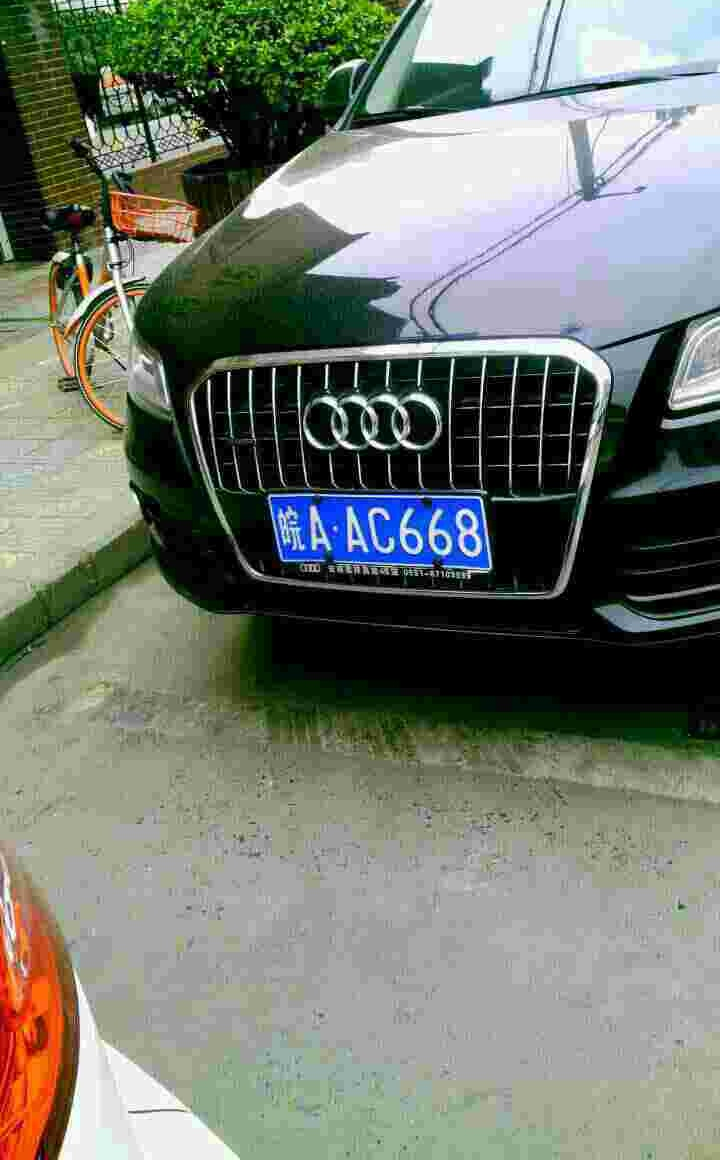plate: (265, 488, 498, 572)
